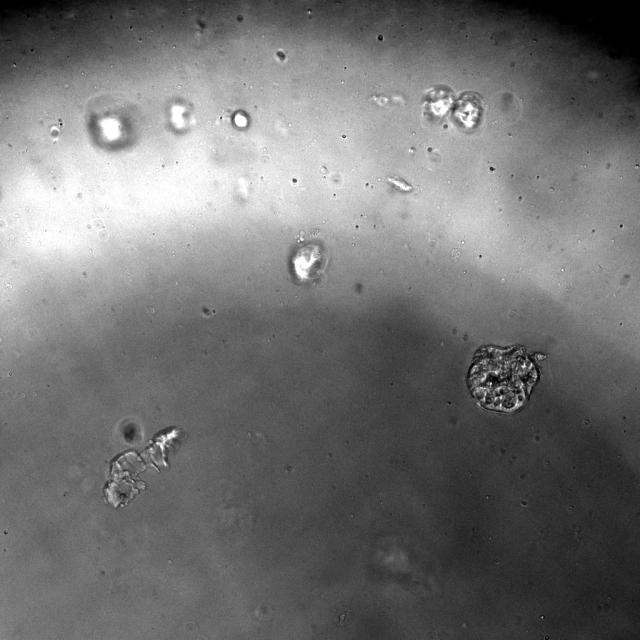organoid: (466, 345, 546, 414), (86, 96, 141, 151), (421, 85, 484, 133), (288, 239, 328, 283), (164, 98, 194, 133), (231, 109, 250, 130)
